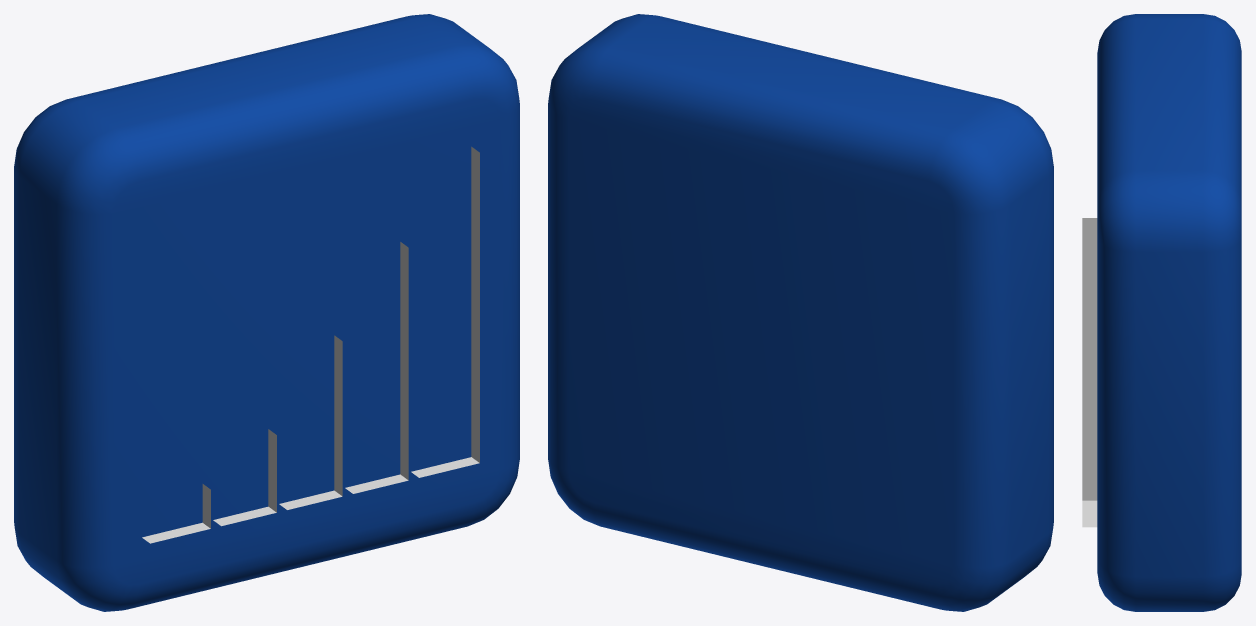
File: antenna_bars.glb
3 renders of one model, left to right at view 1: azimuth 30°, elevation 25°; view 2: azimuth 150°, elevation 25°; view 3: azimuth 270°, elevation 25°, orthographic. The views are drawn at different scales.
Parts seen in each view (by area): view 1: Cube.125, Plane.105; view 2: Cube.125; view 3: Cube.125, Plane.105.
Boxes of the visible parts, bbox=[...] form: Cube.125: bbox=[14, 14, 519, 611]; Plane.105: bbox=[142, 146, 479, 543]; Cube.125: bbox=[548, 14, 1053, 611]; Cube.125: bbox=[1097, 14, 1241, 611]; Plane.105: bbox=[1082, 218, 1097, 527].
Size of the model in its own units: 2.2 by 2.2 by 0.73.
1 material, 1 textured.
